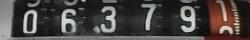digits: (211, 0, 238, 35), (140, 2, 156, 30), (180, 5, 196, 31), (100, 5, 116, 31), (60, 8, 76, 32), (22, 9, 37, 32)
